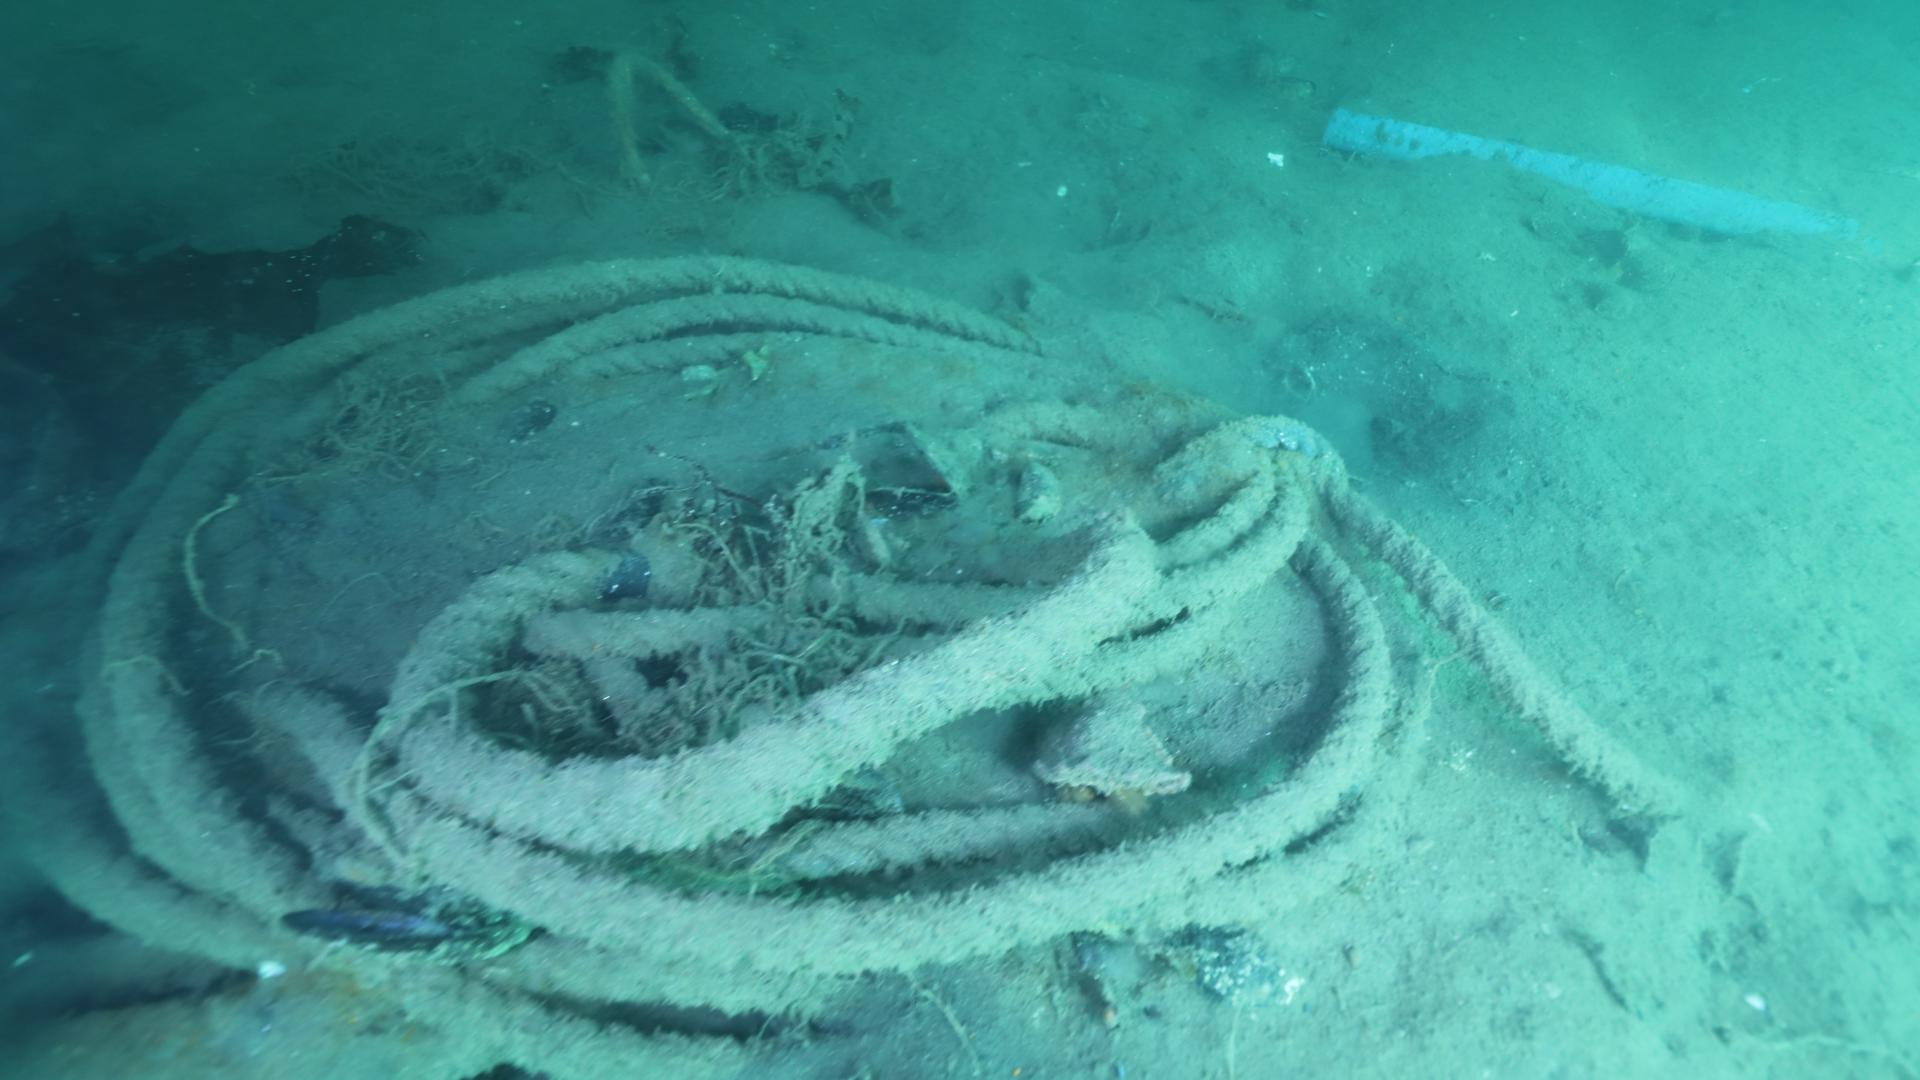bundle of ropes: (3, 253, 1673, 1080)
